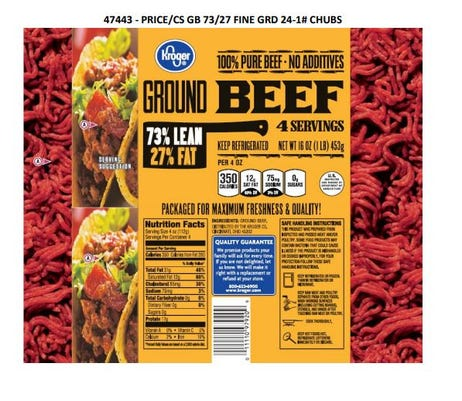ground_beef: (347, 33, 418, 364)
